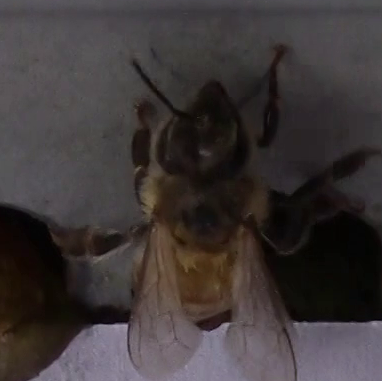Varroa destructor: (194, 308, 228, 334)
